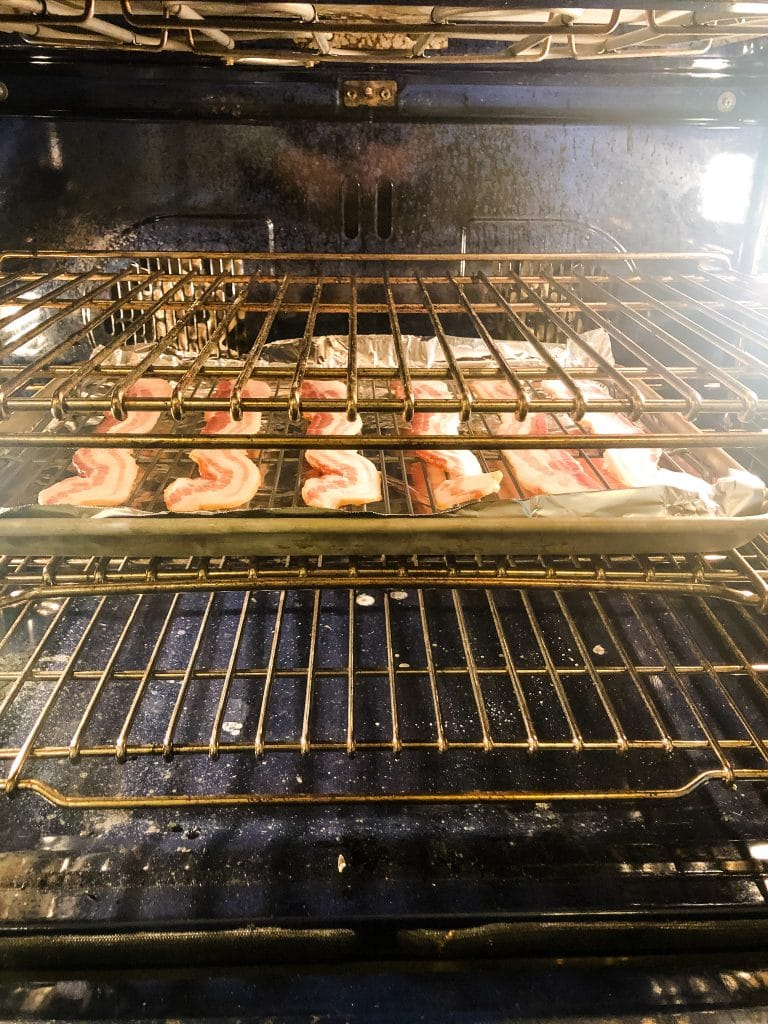bacon: (63, 354, 674, 498)
